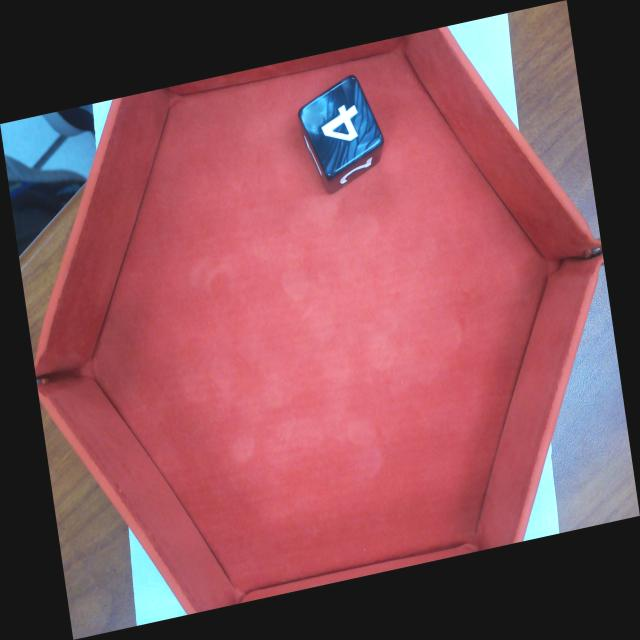dice: (301, 75, 384, 176)
